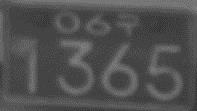0: (53, 9, 80, 34)
1: (11, 37, 48, 94)
3: (56, 39, 95, 95)
5: (144, 43, 184, 102)
6: (100, 40, 140, 98), (84, 11, 111, 36)
구: (114, 11, 141, 35)
